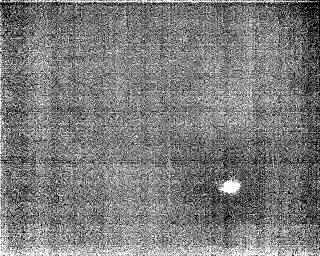AIRPLANE: (216, 174, 243, 197)
